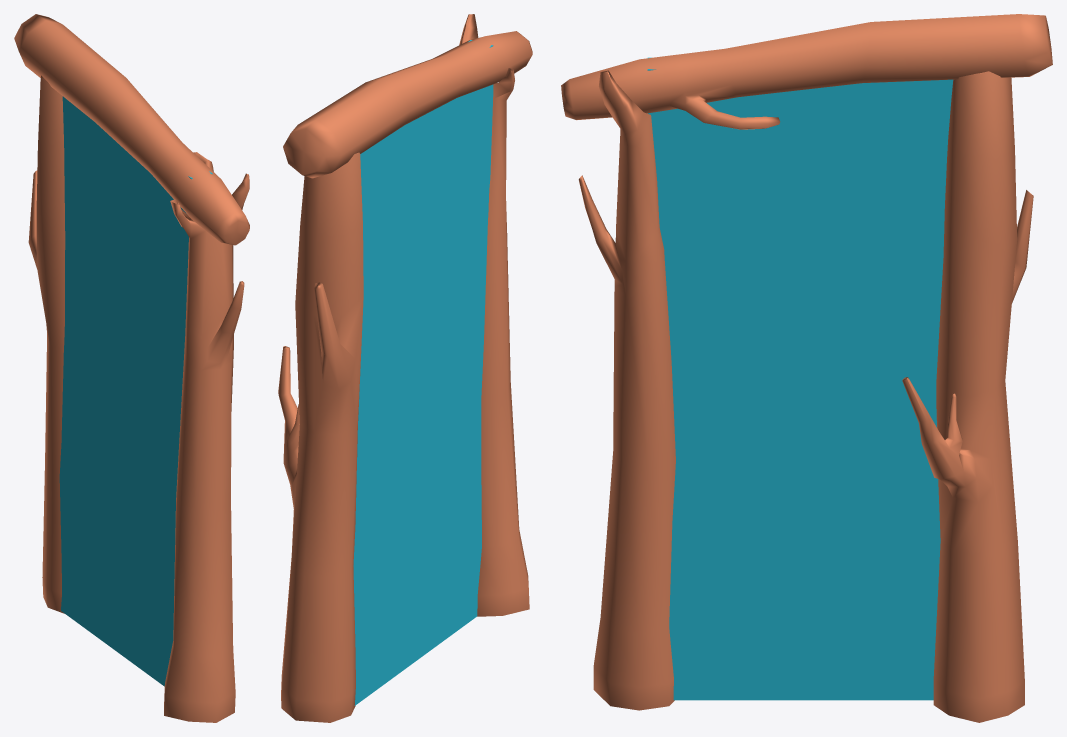
The model's file is V1.Door.fbx.
3 renders of one model, left to right at view 1: azimuth 30°, elevation 25°; view 2: azimuth 150°, elevation 25°; view 3: azimuth 270°, elevation 25°, orthographic. The views are drawn at different scales.
Visible parts, largest first — view 1: Cube.004; view 2: Cube.004; view 3: Cube.004.
Boxes of the visible parts, box(x1,y1,x2,y2) form: Cube.004: box(14, 14, 249, 722); Cube.004: box(278, 14, 532, 722); Cube.004: box(561, 14, 1052, 722).
Bounding box in the file's own units: 79.29 × 360 × 235.
